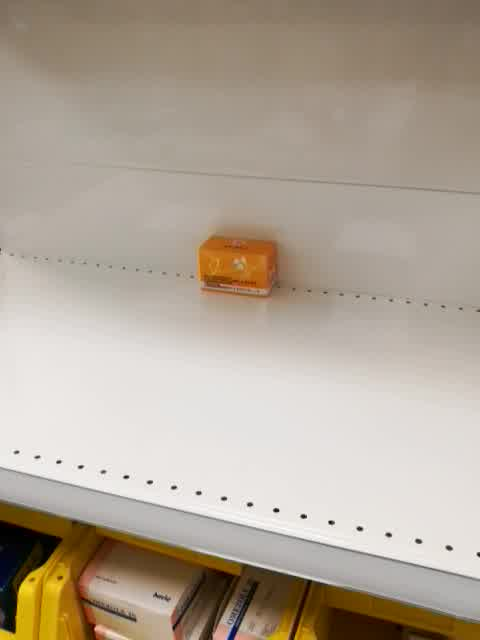jasminetea: (198, 233, 280, 299)
